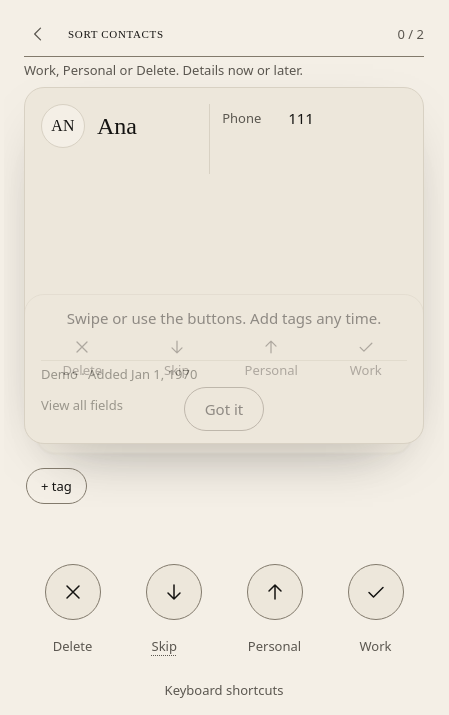
it: first_run_coach_and_next_card_peek_survive_swipe_and_undo
Expected: the element named "Swipe guide" is shown, [24, 294, 424, 444]
Expected: the text "BO" is shown, [62, 146, 83, 162]
Step 1. Click the button "Got it" → (224, 409), box [184, 387, 264, 431]
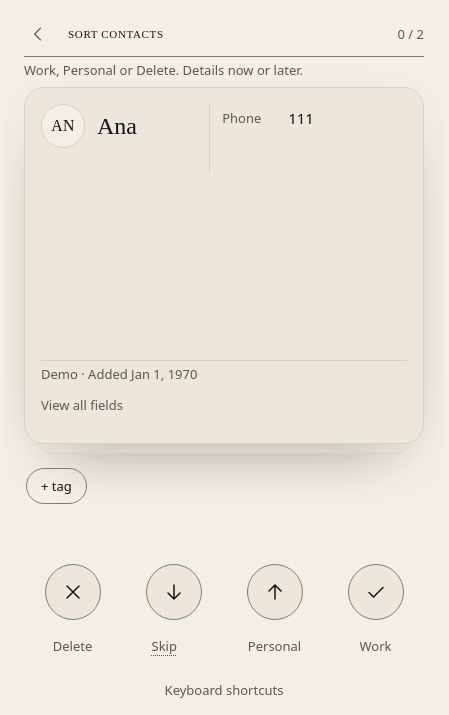
Step 2. Click the button named "Work" → (376, 592), box [348, 564, 404, 620]
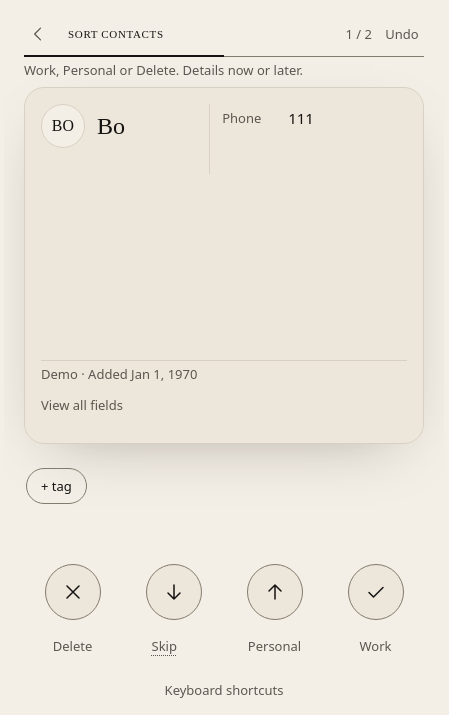
Result: the element named "Bo contact card" is shown at [24, 87, 424, 444]
Result: the button "Undo" is enabled
Step 3. Click the button "Undo" → (402, 34), box [380, 12, 424, 56]
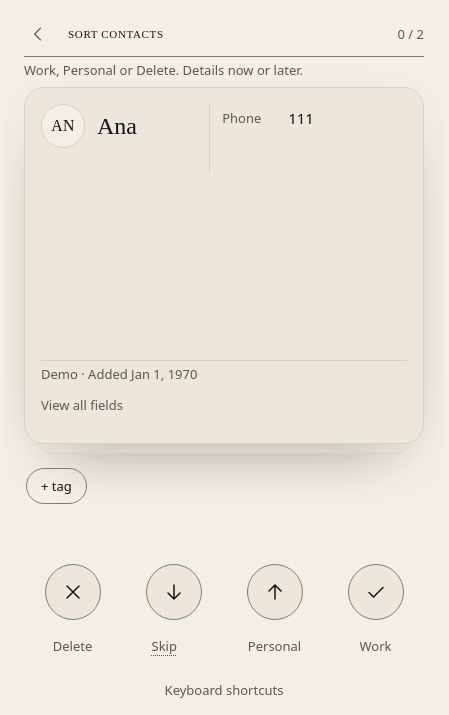
Expected: the text "BO" is shown, [62, 146, 83, 162]
Result: the element named "Ana contact card" is shown at [24, 87, 424, 444]
